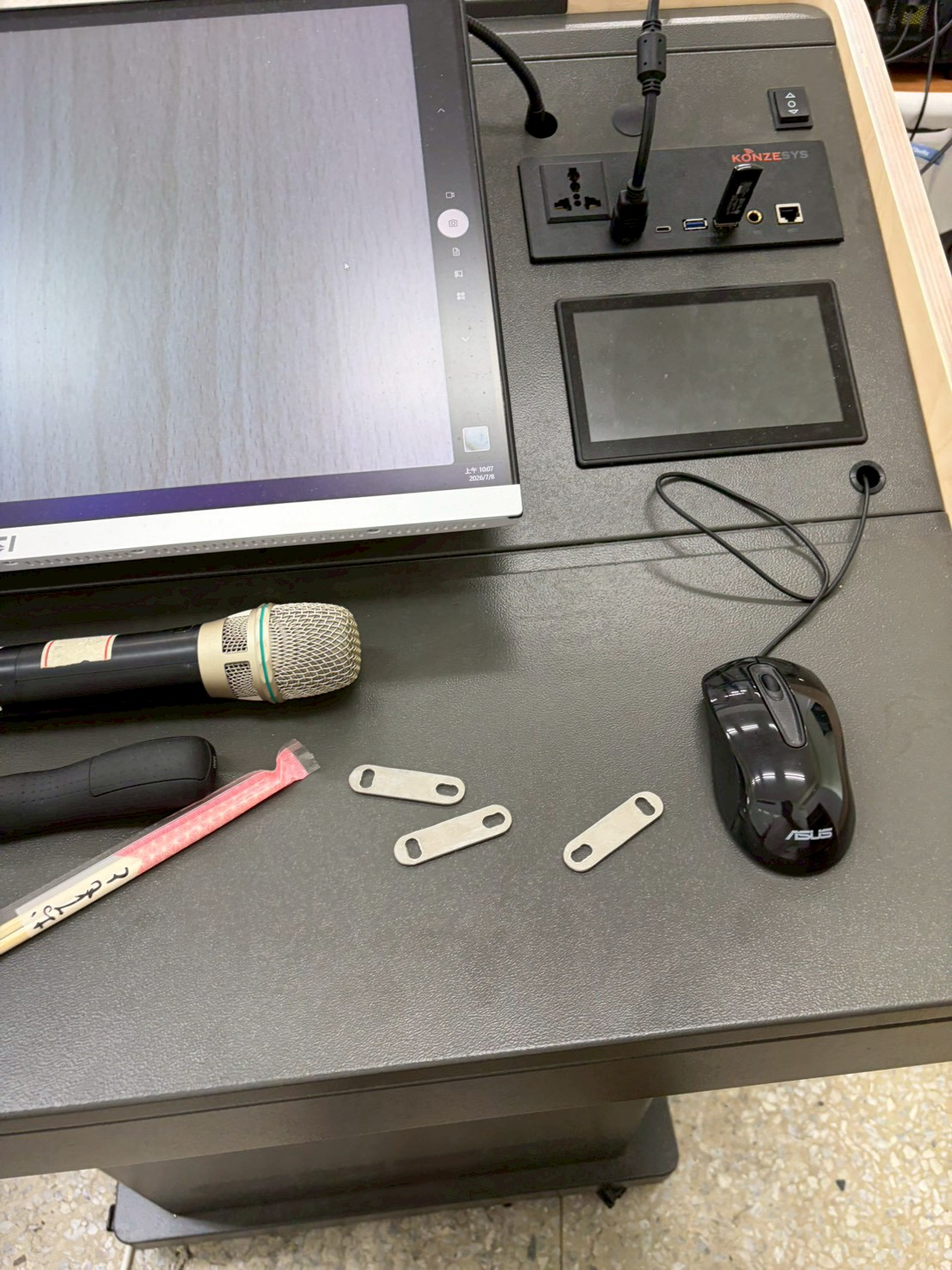Fe: (561, 794, 667, 880), (388, 808, 517, 866), (347, 756, 465, 806)
